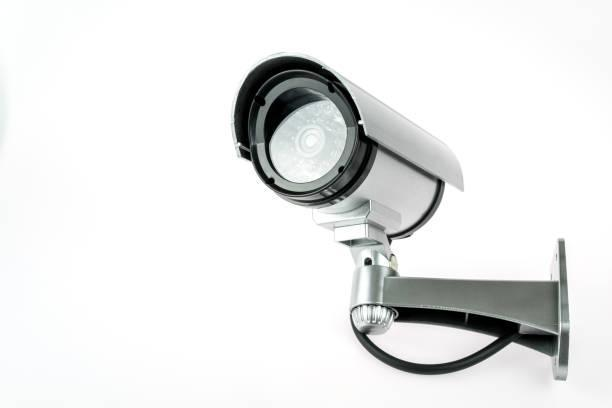camera: (171, 37, 494, 266)
